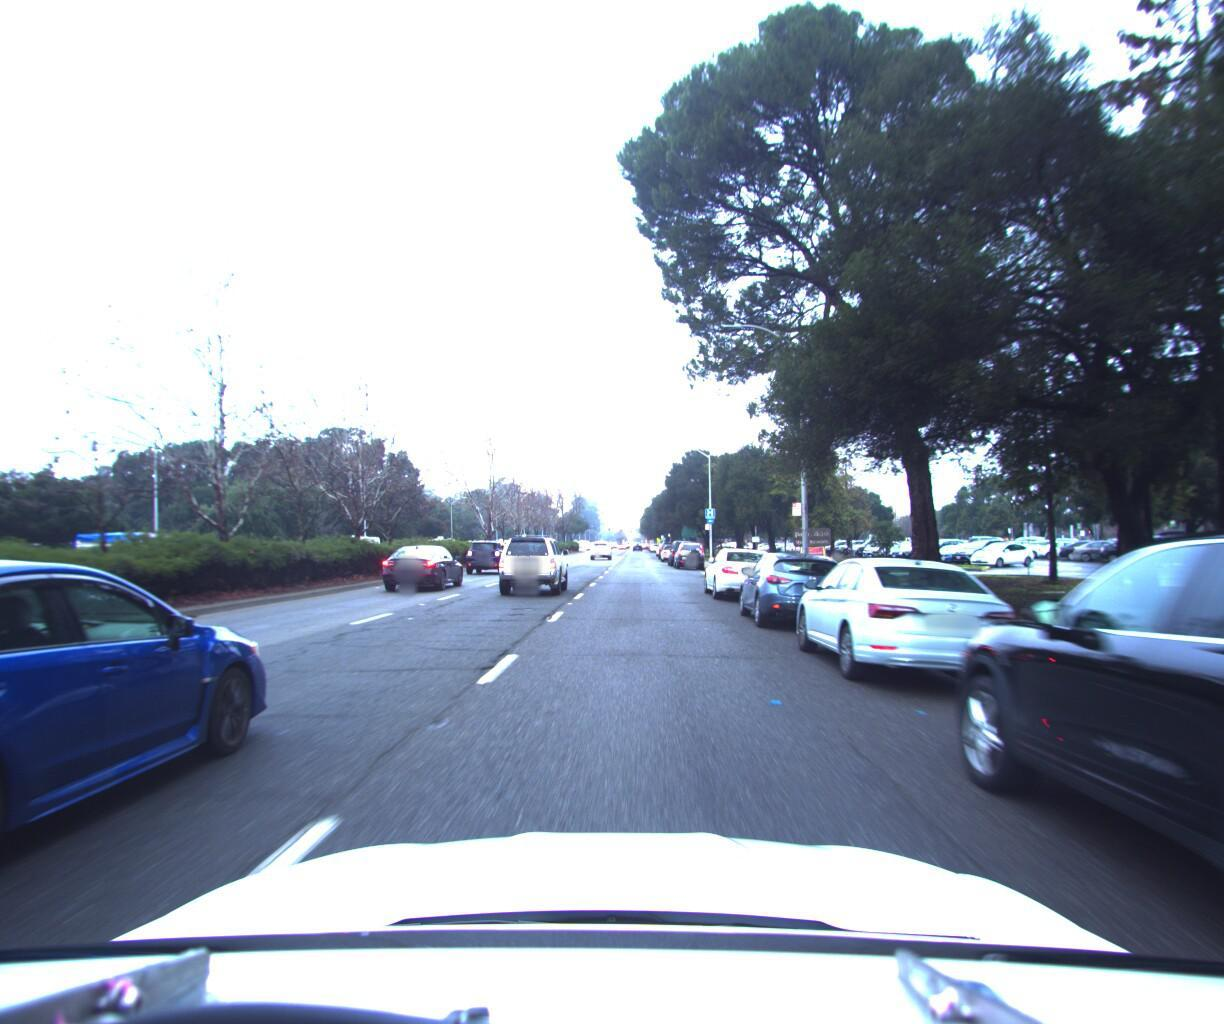car: (912, 464, 1224, 1024), (0, 547, 296, 1024), (782, 543, 1028, 698), (731, 540, 860, 634), (697, 538, 787, 604), (492, 532, 569, 595), (378, 540, 464, 592), (464, 533, 514, 571), (669, 533, 705, 565), (664, 531, 696, 562), (588, 534, 611, 554)
other_vehicle: (66, 527, 185, 582)
